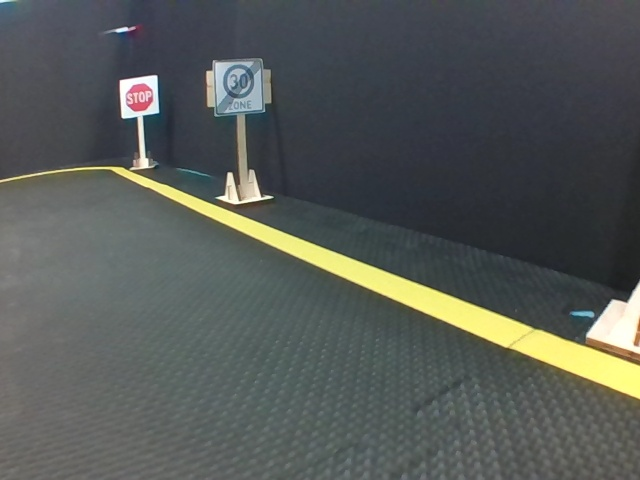no30: (214, 60, 264, 113)
stop: (121, 80, 158, 115)
